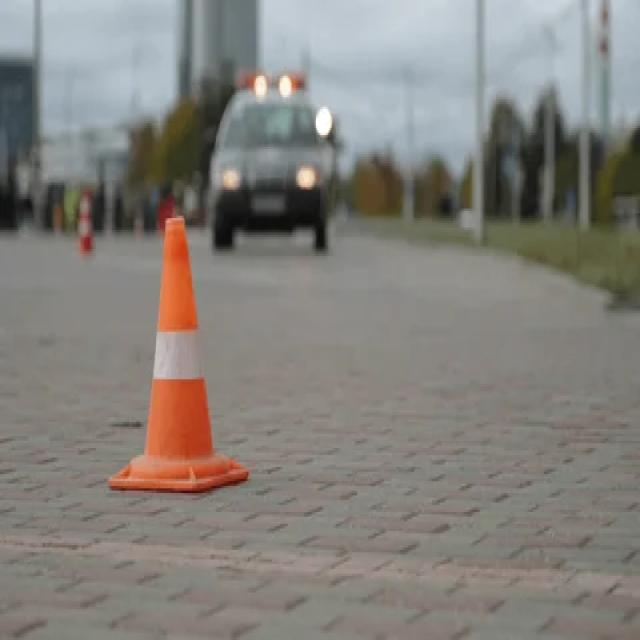Traffic Cone: (88, 146, 288, 536)
